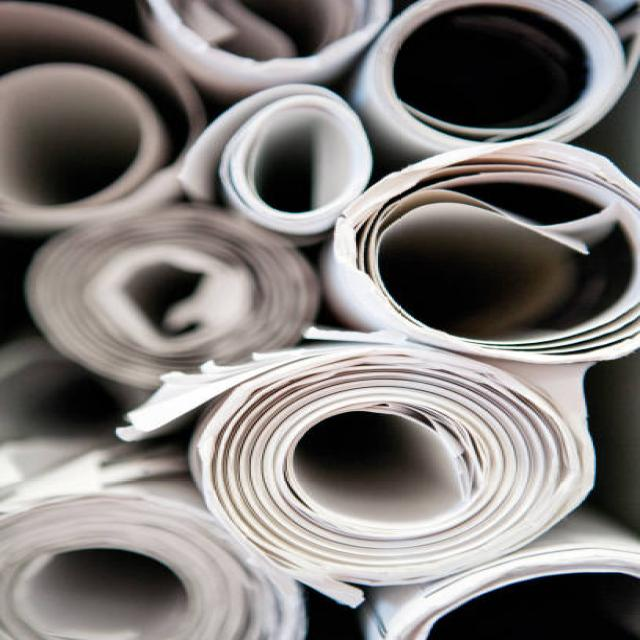electronic: (118, 335, 599, 593), (320, 139, 638, 363), (0, 437, 307, 638), (24, 203, 320, 388), (348, 0, 629, 168), (358, 503, 638, 638)
